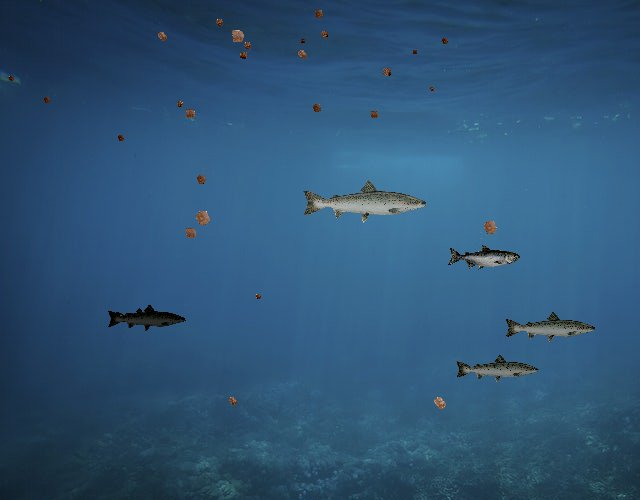Fish: (300, 178, 429, 224), (504, 311, 598, 344), (454, 353, 540, 384), (106, 303, 187, 332), (447, 244, 520, 270), (114, 307, 161, 324)
Pellet: (188, 202, 218, 232), (426, 390, 453, 417), (179, 222, 202, 245), (224, 392, 242, 410), (172, 97, 187, 112), (114, 131, 128, 145), (252, 291, 264, 303)
